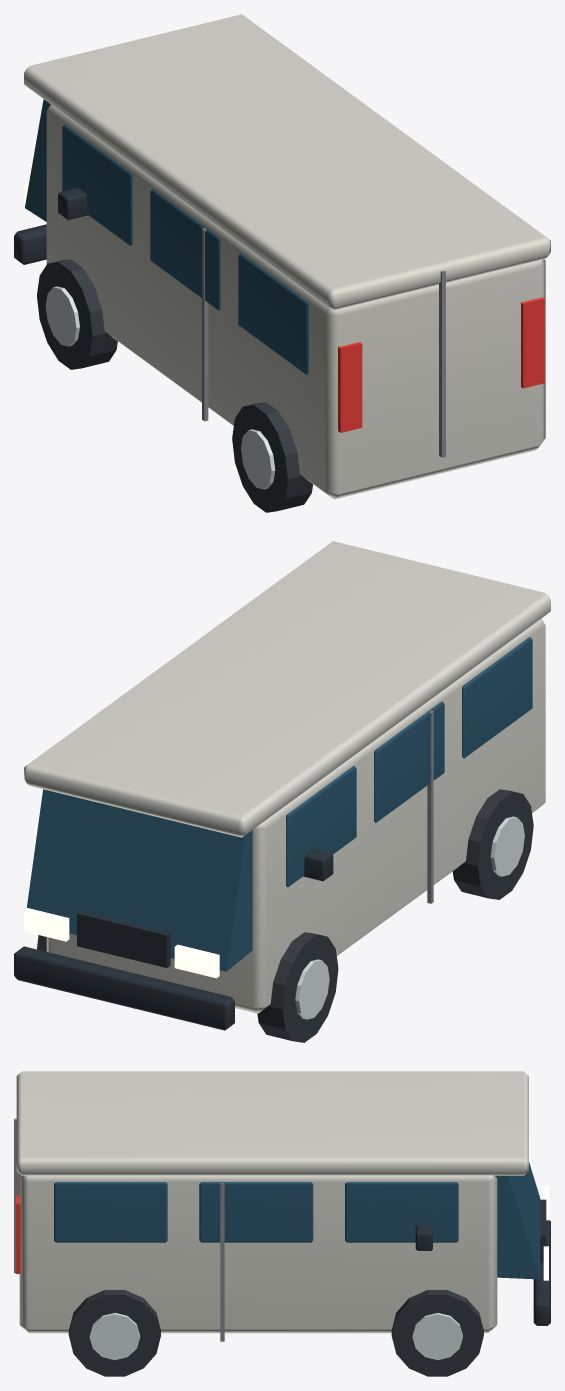
File: van.glb
3 renders of one model, top to bottom at view 1: azimuth 30°, elevation 25°; view 2: azimuth 150°, elevation 25°; view 3: azimuth 270°, elevation 25°, orthographic. The views are drawn at different scales.
Parts seen in each view (by area): view 1: van_roof, van_main_body, van_side_window, van_side_window.001, van_side_window.002, van_tire, van_tire.001, van_taillamp, van_taillamp.001, van_front_cab, van_hub, van_hub.001 (+4 smaller); view 2: van_roof, van_main_body, van_front_cab, van_front_bumper, van_side_window, van_side_window.001, van_side_window.002, van_tire, van_tire.001, van_grille, van_hub.001, van_hub (+4 smaller); view 3: van_roof, van_main_body, van_side_window.003, van_side_window.004, van_side_window.005, van_tire.003, van_tire.002, van_front_cab, van_hub.003, van_hub.002, van_front_bumper, van_door_line.001 (+4 smaller).
Part boxes in pixels (x1,y1,x2,y2): van_roof: (24,14,550,310); van_main_body: (46,104,545,499); van_side_window: (238,253,308,374); van_side_window.001: (150,189,220,310); van_side_window.002: (62,124,132,245); van_tire: (232,402,312,512); van_tire.001: (37,259,117,369); van_taillamp: (338,342,362,432); van_taillamp.001: (521,297,544,388); van_front_cab: (25,99,50,221); van_hub: (241,429,275,489); van_hub.001: (45,286,79,346); van_roof: (24,541,550,837); van_main_body: (46,618,545,1013); van_front_cab: (27,789,252,971); van_front_bumper: (14,946,234,1030); van_side_window: (462,637,532,758); van_side_window.001: (374,701,444,822); van_side_window.002: (286,766,356,887); van_tire: (452,789,533,899); van_tire.001: (257,932,338,1042); van_grille: (77,911,170,967); van_hub.001: (295,959,329,1019); van_hub: (490,816,524,876); van_roof: (16,1071,528,1175); van_main_body: (19,1174,497,1333); van_side_window.003: (54,1182,167,1242); van_side_window.004: (199,1182,313,1242); van_side_window.005: (345,1182,458,1242); van_tire.003: (391,1290,483,1376); van_tire.002: (68,1290,160,1376); van_front_cab: (494,1162,540,1279); van_hub.003: (412,1313,462,1360); van_hub.002: (89,1313,140,1360); van_front_bumper: (533,1220,550,1325); van_door_line.001: (220,1183,224,1341).
Size of the model in its own units: 2.49 by 2.29 by 5.24.
